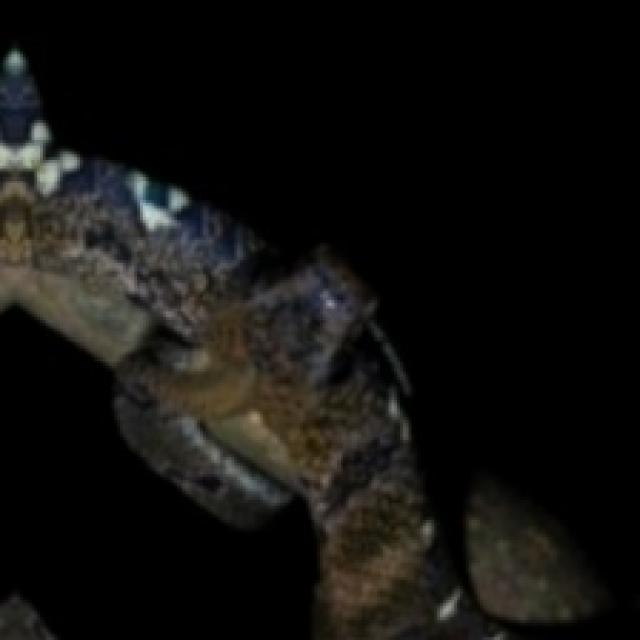dog-toothed cat snake: (0, 49, 637, 637)
